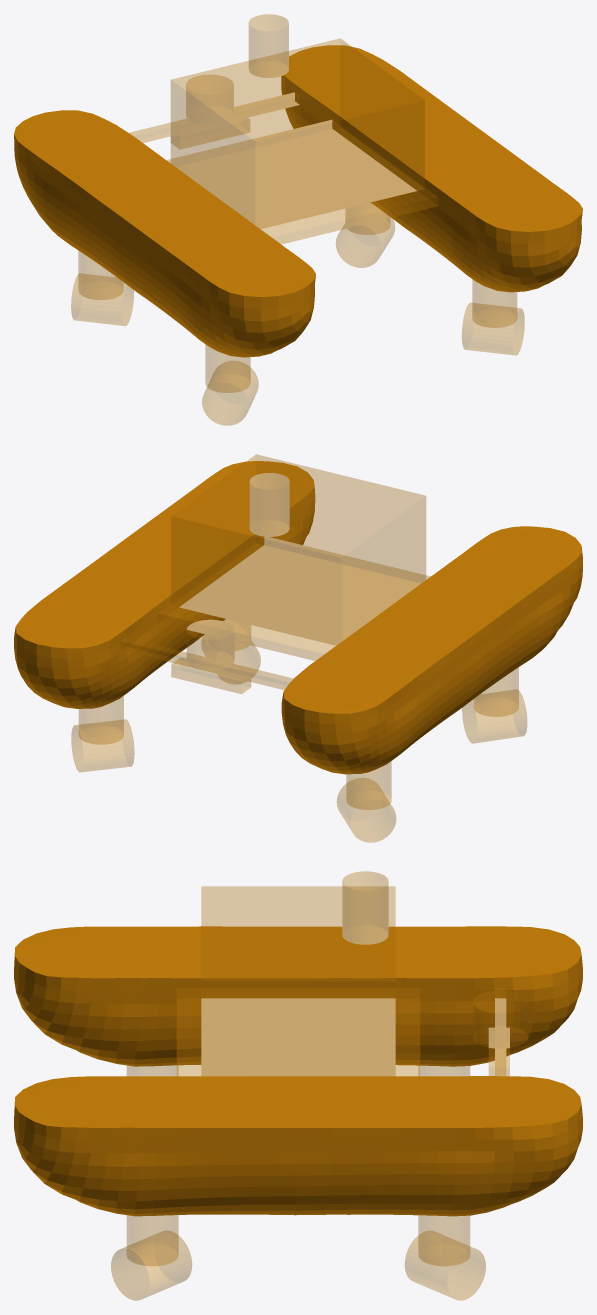
The model's file is omni_boat_collider_full.obj.
3 renders of one model, top to bottom at view 1: azimuth 30°, elevation 25°; view 2: azimuth 150°, elevation 25°; view 3: azimuth 270°, elevation 25°, orthographic. The views are drawn at different scales.
Visible parts, largest first — view 1: left_hull_collision, electrical_box_collision, right_hull_collision, electrical_box_mount_collision, rear_right_thruster_collision, front_left_thruster_collision, rear_left_thruster_collision, gps_collision, front_right_thruster_collision, lidar_collision, rear_left_leg_collision, sensor_rail_collision (+4 smaller); view 2: left_hull_collision, electrical_box_collision, right_hull_collision, electrical_box_mount_collision, front_right_thruster_collision, rear_left_thruster_collision, front_left_thruster_collision, gps_collision, sensor_rail_collision, lidar_collision, front_left_leg_collision, front_left_leg_collision.001 (+3 smaller); view 3: right_hull_collision, left_hull_collision, electrical_box_collision, electrical_box_mount_collision, front_right_thruster_collision, rear_right_thruster_collision, gps_collision, lidar_collision, rear_right_leg_collision, front_left_leg_collision.001, sensor_rail_collision, camera_collision.
Boxes of the visible parts, bbox=[...] form: left_hull_collision: bbox=[14, 110, 315, 357]; electrical_box_collision: bbox=[171, 38, 424, 228]; right_hull_collision: bbox=[281, 45, 582, 292]; electrical_box_mount_collision: bbox=[166, 120, 437, 244]; rear_right_thruster_collision: bbox=[462, 303, 524, 355]; front_left_thruster_collision: bbox=[71, 273, 133, 325]; rear_left_thruster_collision: bbox=[202, 361, 258, 425]; gps_collision: bbox=[249, 14, 288, 77]; front_right_thruster_collision: bbox=[336, 218, 394, 267]; lidar_collision: bbox=[186, 75, 233, 125]; rear_left_leg_collision: bbox=[205, 344, 250, 392]; sensor_rail_collision: bbox=[129, 93, 299, 142]; left_hull_collision: bbox=[281, 526, 582, 774]; electrical_box_collision: bbox=[171, 454, 425, 645]; right_hull_collision: bbox=[14, 461, 315, 708]; electrical_box_mount_collision: bbox=[158, 537, 430, 660]; front_right_thruster_collision: bbox=[71, 719, 134, 772]; rear_left_thruster_collision: bbox=[462, 689, 527, 743]; front_left_thruster_collision: bbox=[337, 778, 396, 842]; gps_collision: bbox=[250, 473, 289, 536]; sensor_rail_collision: bbox=[121, 638, 293, 689]; lidar_collision: bbox=[187, 620, 234, 670]; front_left_leg_collision: bbox=[346, 761, 391, 809]; front_left_leg_collision.001: bbox=[79, 696, 123, 744]; right_hull_collision: bbox=[14, 1076, 582, 1216]; left_hull_collision: bbox=[14, 926, 582, 1066]; electrical_box_collision: bbox=[201, 886, 395, 1075]; electrical_box_mount_collision: bbox=[177, 988, 419, 1075]; front_right_thruster_collision: bbox=[405, 1231, 485, 1300]; rear_right_thruster_collision: bbox=[111, 1231, 191, 1300]; gps_collision: bbox=[342, 871, 388, 944]; lidar_collision: bbox=[473, 990, 527, 1048]; rear_right_leg_collision: bbox=[127, 1215, 178, 1265]; front_left_leg_collision.001: bbox=[418, 1215, 469, 1265]; sensor_rail_collision: bbox=[495, 988, 505, 1075]; camera_collision: bbox=[489, 1028, 509, 1075].
Size of the model in its own units: 0.8965 by 0.6927 by 1.06.
